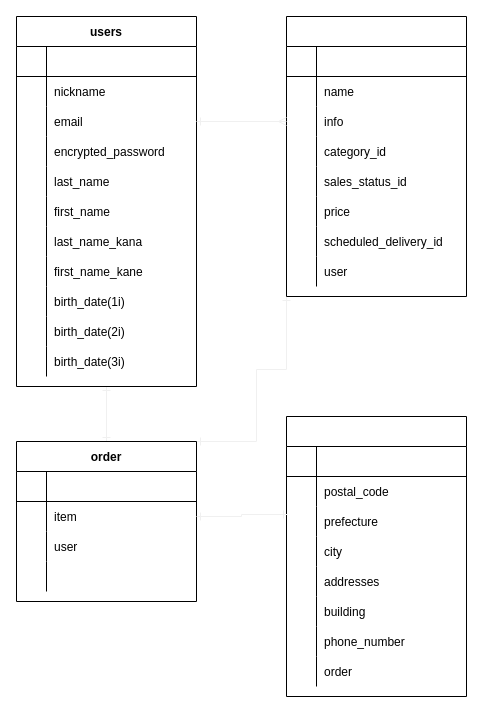
Some shapes in this 483 by 713 pixel diagram are drawn without their labels. Each missing label, with the box of its shape:
items: (286, 16, 466, 296)
pay_form: (286, 416, 466, 696)
